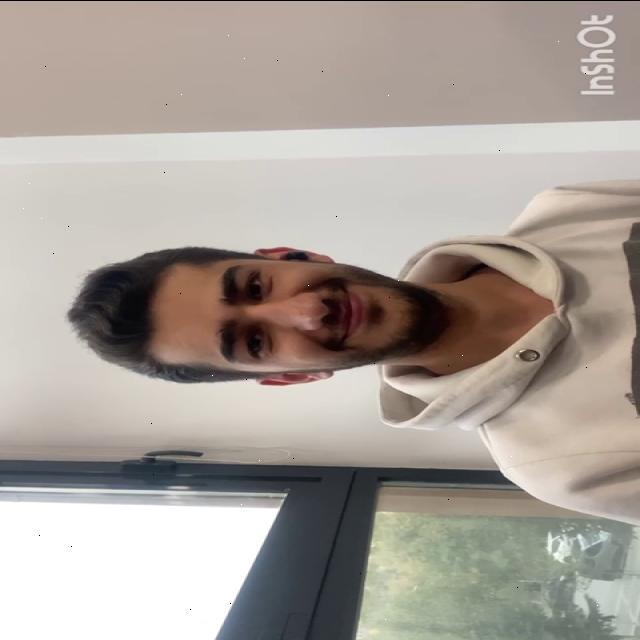happy: (114, 240, 437, 386)
